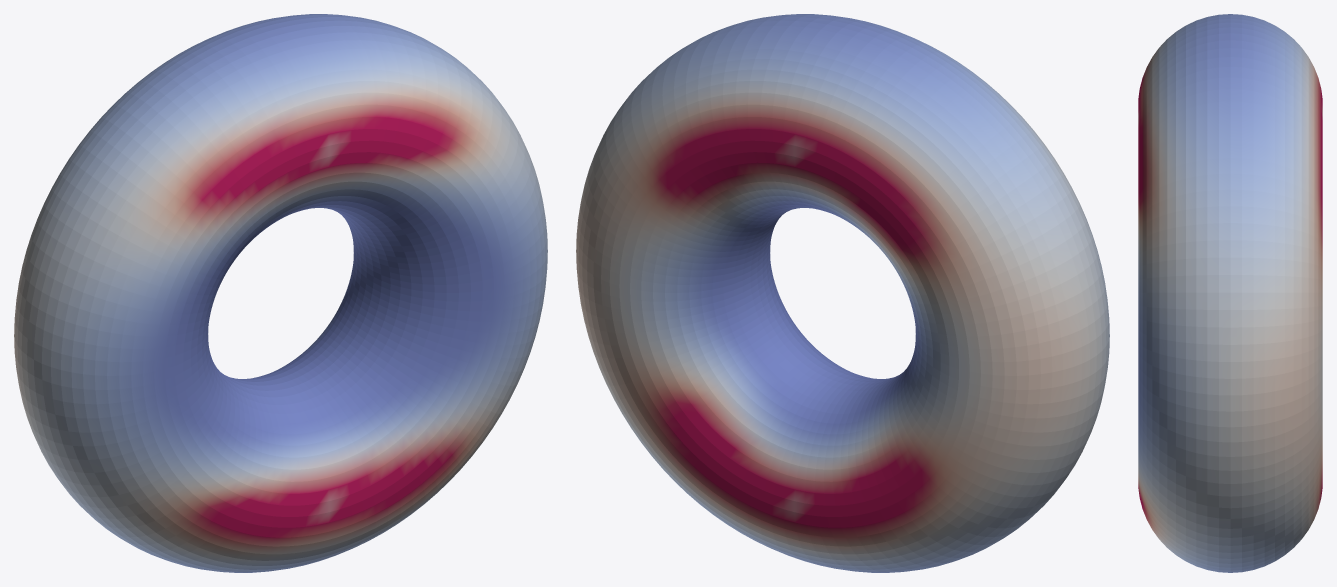
3 views of the same model, side by side, from view 1: azimuth 30°, elevation 25°; view 2: azimuth 150°, elevation 25°; view 3: azimuth 270°, elevation 25° (orthographic). The views are drawn at different scales.
Parts seen in each view (by area): view 1: world; view 2: world; view 3: world.
Part boxes in pixels (x1=…): world: x1=14, y1=14, x2=547, y2=572; world: x1=576, y1=14, x2=1109, y2=572; world: x1=1138, y1=14, x2=1322, y2=572.
Bounding box in the file's own units: 18.93 × 18.93 × 6.25.
